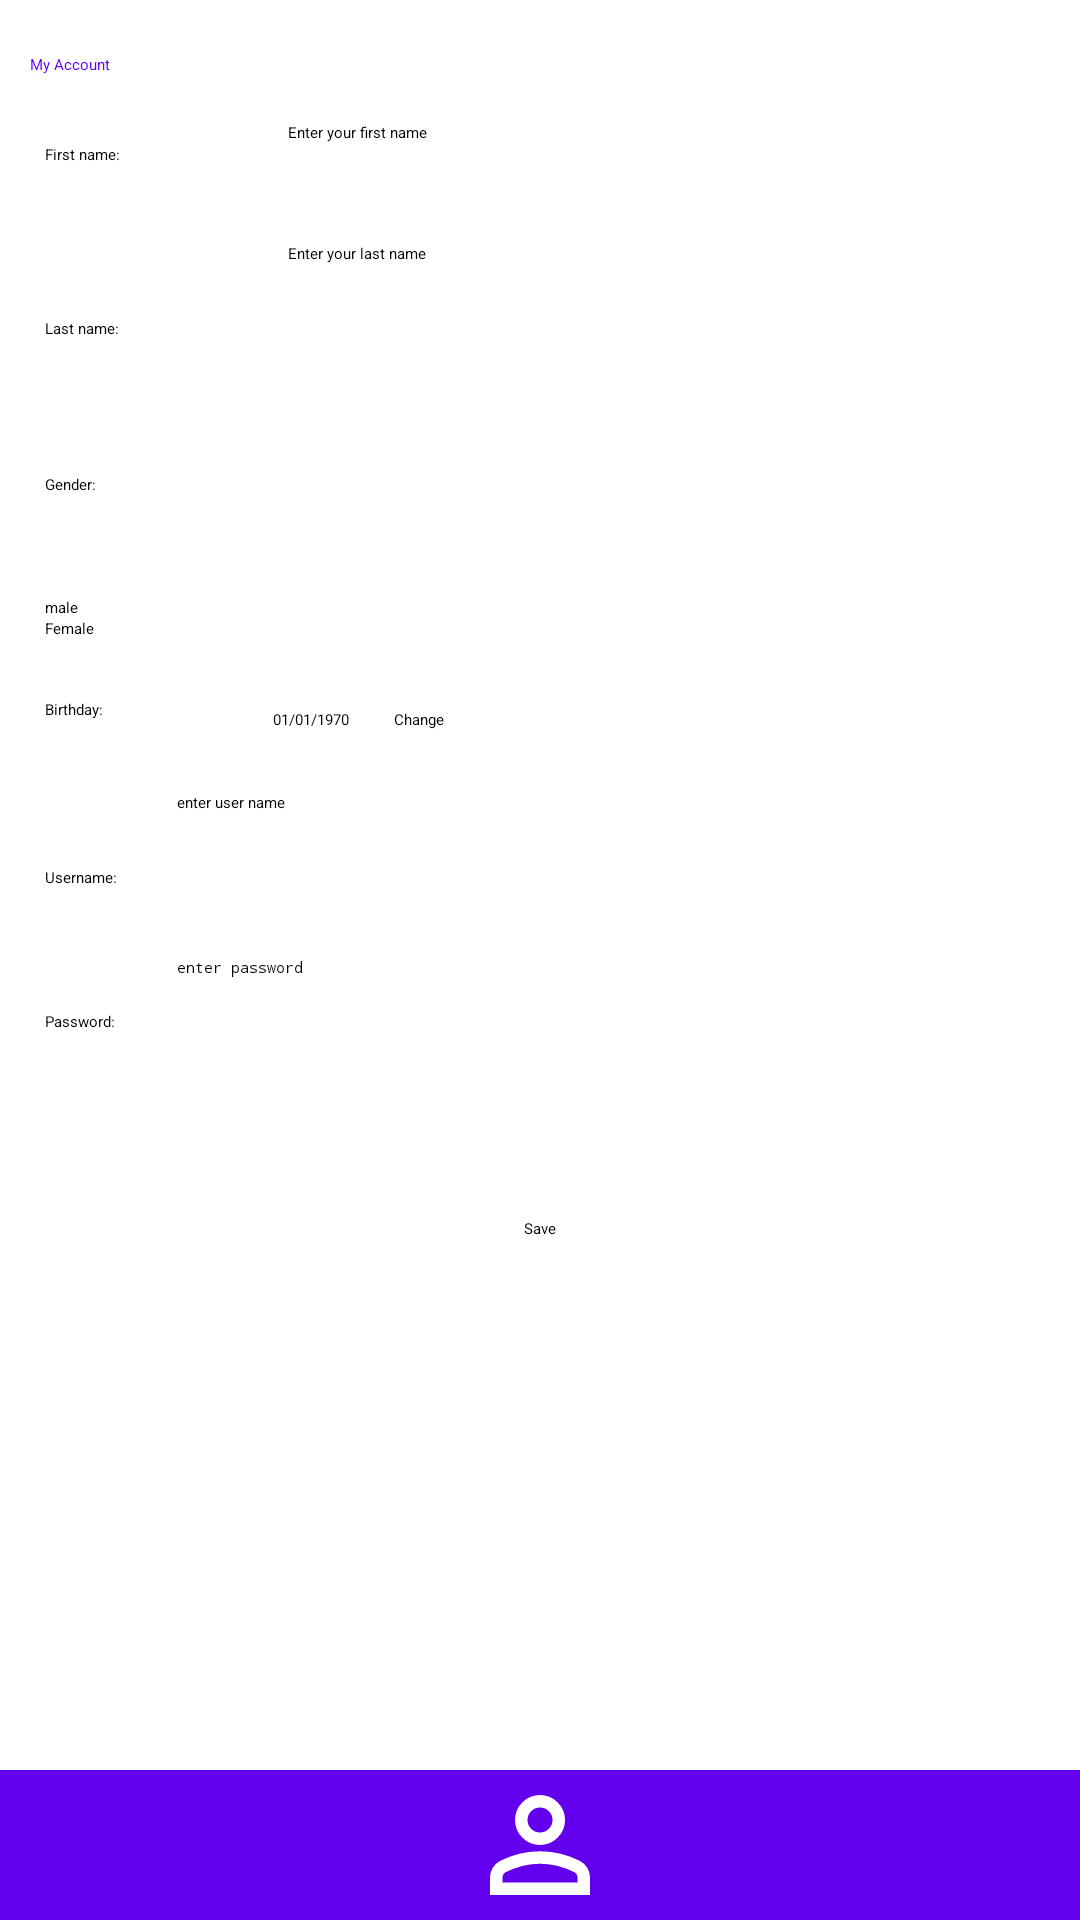

Named icons in this screenshot (1080*1920) and their bounding boxes, (x1, y1, x2, y2):
person: (490, 1795, 590, 1895)
